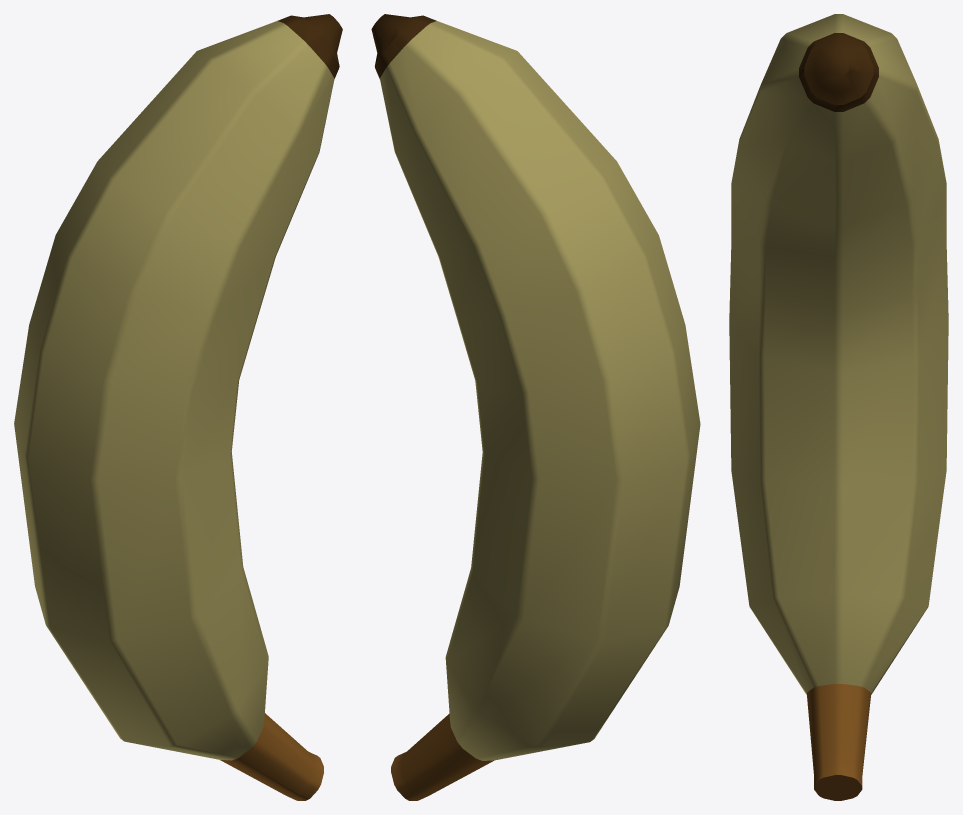
Rendered from Banana.fbx.
3 views of the same model, side by side, from view 1: azimuth 30°, elevation 25°; view 2: azimuth 150°, elevation 25°; view 3: azimuth 270°, elevation 25° (orthographic).
Parts seen in each view (by area): view 1: pCylinder2; view 2: pCylinder2; view 3: pCylinder2.
Boxes of the visible parts, x1,y1,x2,y2 form: pCylinder2: (14, 14, 342, 800); pCylinder2: (371, 14, 700, 800); pCylinder2: (729, 14, 948, 800).
Size of the model in its own units: 2.76 by 6.55 by 1.7.
